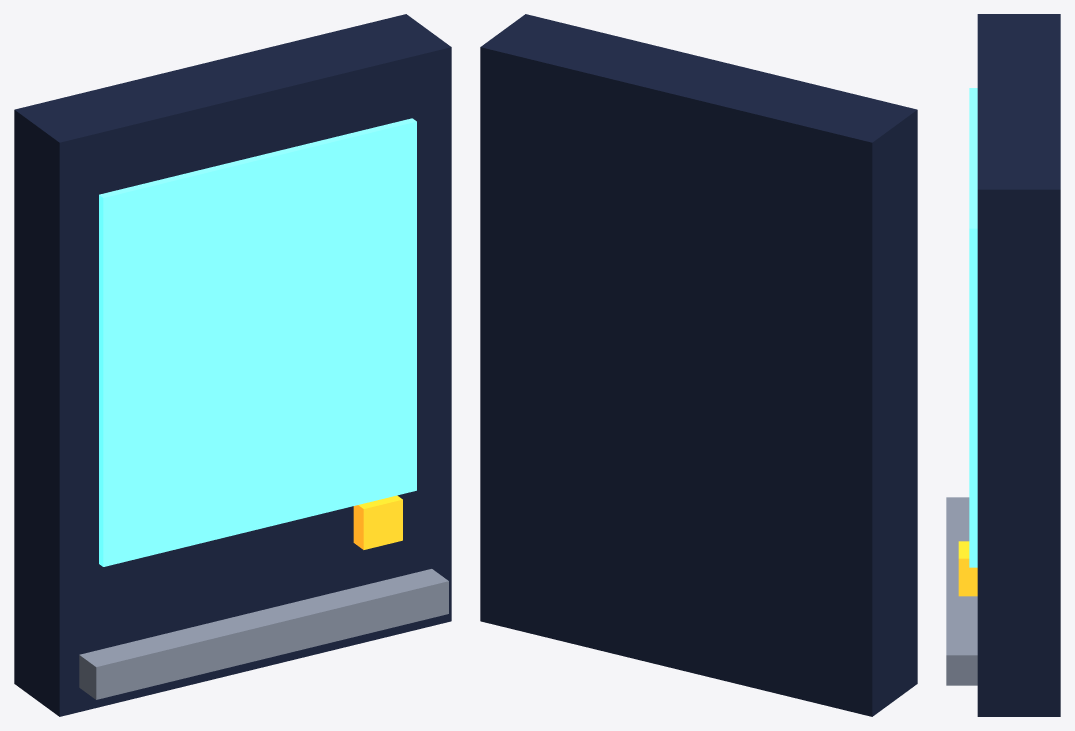
Rendered from stationpack-terminal-wall.glb.
The picture shows the model from 3 angles, left to right: view 1: azimuth 30°, elevation 25°; view 2: azimuth 150°, elevation 25°; view 3: azimuth 270°, elevation 25°; orthographic projection. The views are drawn at different scales.
Visible parts, largest first — view 1: terminal_wall; view 2: terminal_wall; view 3: terminal_wall.
Boxes of the visible parts, <box> form: terminal_wall: <box>14,14,451,716</box>; terminal_wall: <box>480,14,917,716</box>; terminal_wall: <box>946,14,1060,716</box>.
Size of the model in its own units: 1 by 1.4 by 0.275.
